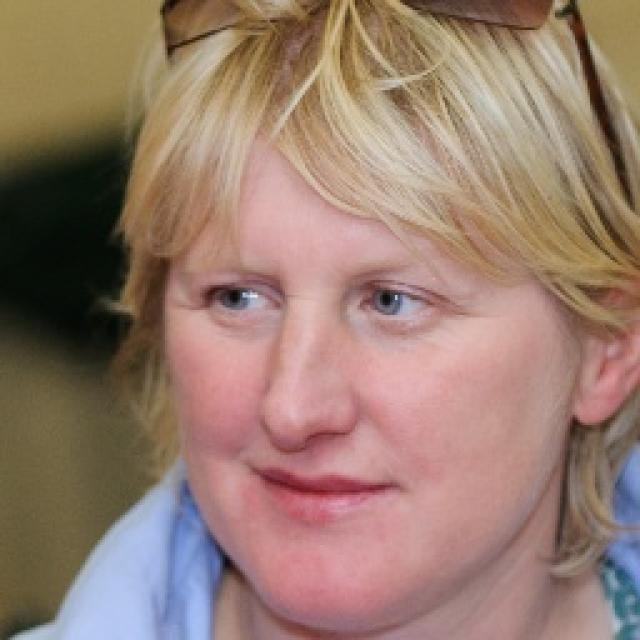earlobe: (573, 375, 616, 428)
eye: (356, 281, 440, 320), (203, 285, 286, 317)
nose: (259, 426, 357, 464)
wholeear: (572, 266, 639, 428)
